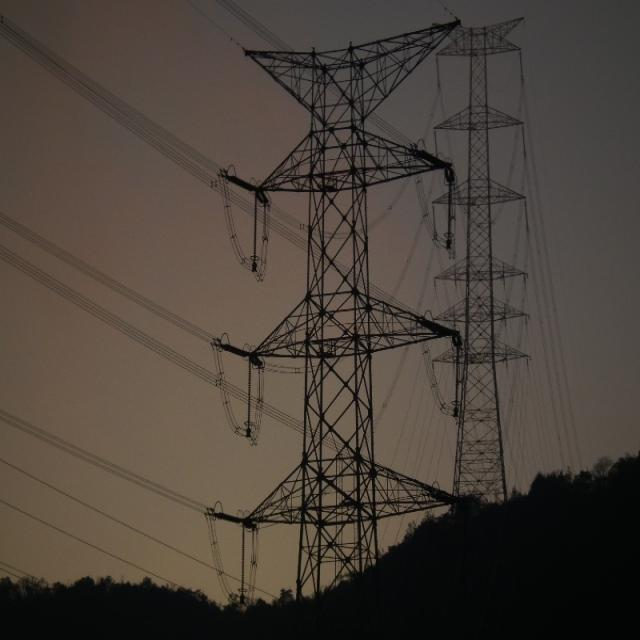non-critical vegetation: (200, 22, 440, 584), (411, 19, 556, 504)
